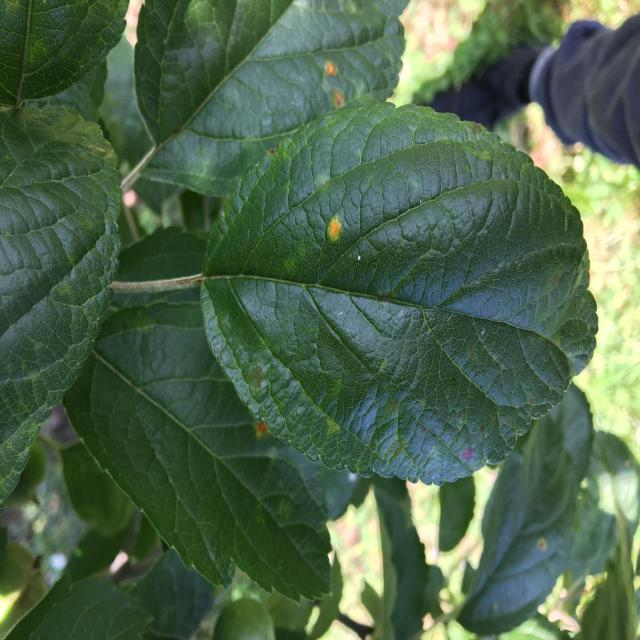Rust: (326, 200, 346, 247), (328, 88, 356, 121), (318, 50, 342, 83), (254, 417, 274, 447), (532, 533, 554, 554)
